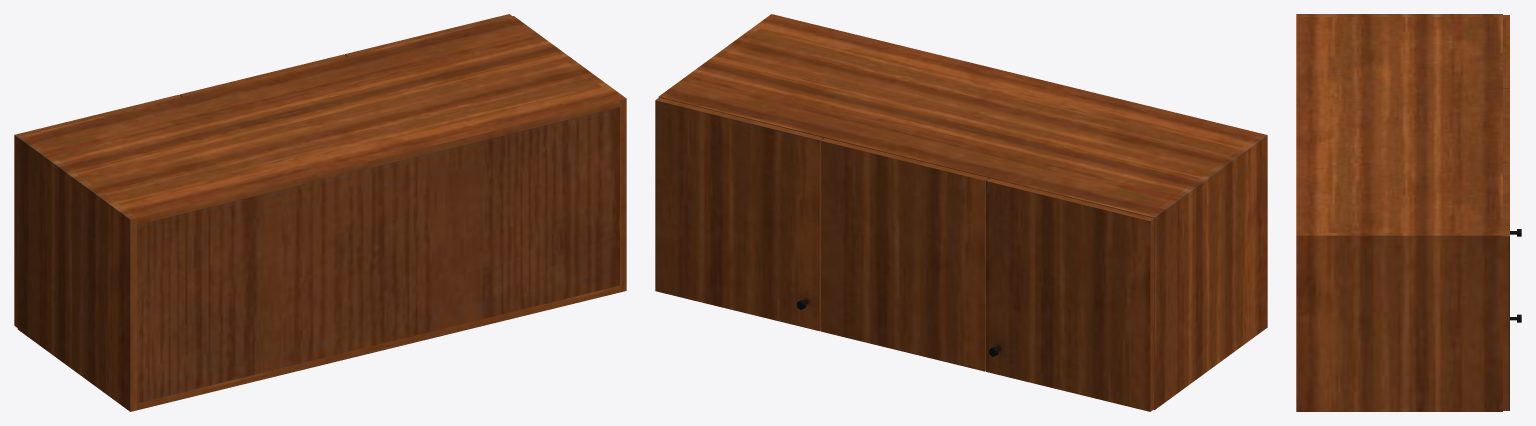
The model's file is wardrobe_3door_top_lod1_web.glb.
3 views of the same model, side by side, from view 1: azimuth 30°, elevation 25°; view 2: azimuth 150°, elevation 25°; view 3: azimuth 270°, elevation 25° (orthographic). The views are drawn at different scales.
Parts seen in each view (by area): view 1: Wardrobe3DoorTop_Body, Door_Top_3_Mesh, Door_Top_1_Mesh, Door_Top_2_Mesh; view 2: Wardrobe3DoorTop_Body, Door_Top_3_Mesh, Door_Top_2_Mesh, Door_Top_1_Mesh; view 3: Wardrobe3DoorTop_Body, Door_Top_1_Mesh, Door_Top_2_Mesh, Door_Top_3_Mesh.
Part boxes in pixels (x1=…): Wardrobe3DoorTop_Body: x1=17, y1=16, x2=626, y2=411; Door_Top_3_Mesh: x1=14, y1=94, x2=180, y2=327; Door_Top_1_Mesh: x1=345, y1=14, x2=511, y2=56; Door_Top_2_Mesh: x1=179, y1=54, x2=346, y2=96; Wardrobe3DoorTop_Body: x1=658, y1=14, x2=1267, y2=409; Door_Top_3_Mesh: x1=986, y1=178, x2=1154, y2=411; Door_Top_2_Mesh: x1=820, y1=138, x2=988, y2=371; Door_Top_1_Mesh: x1=655, y1=97, x2=823, y2=331; Wardrobe3DoorTop_Body: x1=1296, y1=14, x2=1502, y2=411; Door_Top_1_Mesh: x1=1503, y1=162, x2=1509, y2=410; Door_Top_2_Mesh: x1=1503, y1=89, x2=1509, y2=162; Door_Top_3_Mesh: x1=1503, y1=15, x2=1509, y2=88.
Bounding box in the file's own units: 1.35 × 0.5 × 0.58.
Materials: 2 (2 with a texture image).
